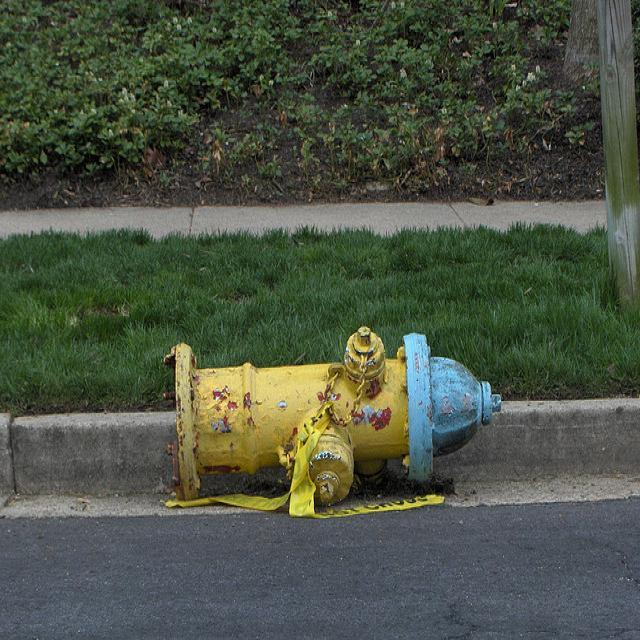fire_hydrant: (160, 327, 503, 507)
